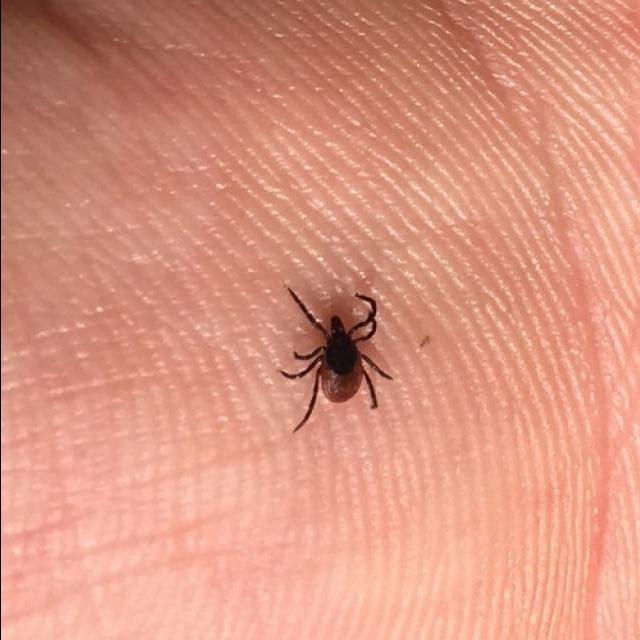Ixodes Ricinus-F: (276, 289, 389, 432)
